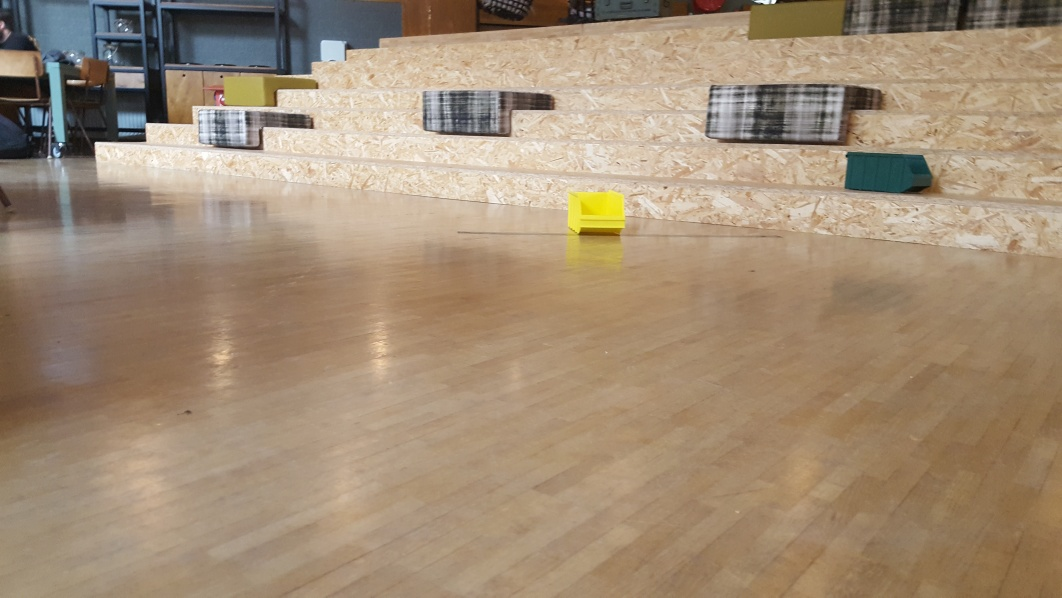tray: (843, 152, 933, 196), (568, 187, 627, 234)
